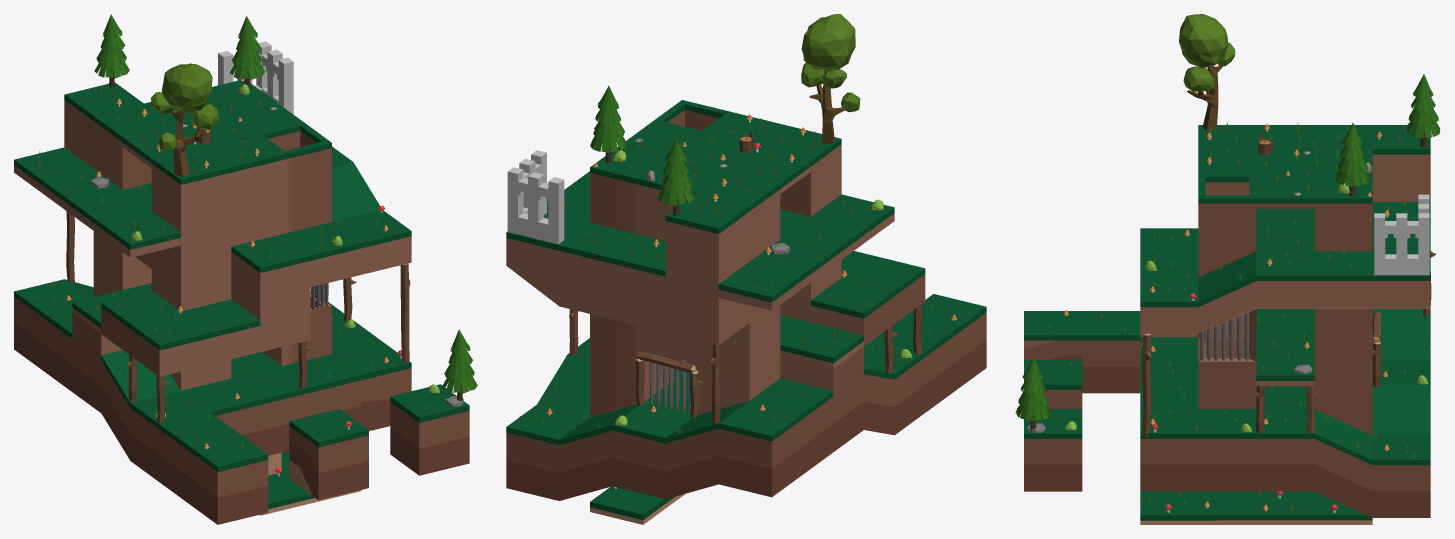
Rendered from Mapa202.fbx.
3 renders of one model, left to right at view 1: azimuth 30°, elevation 25°; view 2: azimuth 150°, elevation 25°; view 3: azimuth 270°, elevation 25°, orthographic. The views are drawn at different scales.
Visible parts, largest first — view 1: Cube, Cubo.009, Cubo.028, Cubo.018, Cubo.017, Cubo.006, Cubo.011, Tree1, Cubo.024, Cubo.025, Cubo.027, Cubo.029 (+10 smaller); view 2: Cube, Cubo.028, Cubo.009, Cubo.017, Cubo.018, Cubo.006, Tree1, Cubo.011, Cubo.026, Cubo.012, Cubo.029, Cubo.033 (+7 smaller); view 3: Cube, Cubo.009, Cubo.018, Cubo.028, Cubo.033, Cubo.012, Tree1, Cubo.006, Cubo.017, Cubo.027, Cubo.029, Tree2.003 (+7 smaller).
Part boxes in pixels (x1=…): Cube: x1=14, y1=100, x2=469, y2=524; Cubo.009: x1=14, y1=279, x2=411, y2=415; Cubo.028: x1=93, y1=80, x2=302, y2=184; Cubo.018: x1=231, y1=146, x2=411, y2=272; Cubo.017: x1=14, y1=147, x2=180, y2=249; Cubo.006: x1=101, y1=350, x2=268, y2=471; Cubo.011: x1=101, y1=290, x2=260, y2=350; Tree1: x1=150, y1=63, x2=219, y2=176; Cubo.024: x1=289, y1=409, x2=368, y2=447; Cubo.025: x1=390, y1=384, x2=469, y2=422; Cubo.027: x1=256, y1=41, x2=293, y2=114; Cubo.029: x1=64, y1=82, x2=143, y2=120; Cube: x1=506, y1=110, x2=986, y2=524; Cubo.028: x1=590, y1=113, x2=841, y2=210; Cubo.009: x1=506, y1=338, x2=833, y2=445; Cubo.017: x1=718, y1=194, x2=894, y2=302; Cubo.018: x1=506, y1=171, x2=665, y2=276; Cubo.006: x1=863, y1=294, x2=986, y2=379; Tree1: x1=801, y1=14, x2=860, y2=143; Cubo.011: x1=811, y1=251, x2=925, y2=318; Cubo.026: x1=508, y1=167, x2=564, y2=244; Cubo.012: x1=780, y1=315, x2=863, y2=363; Cubo.029: x1=665, y1=193, x2=749, y2=233; Cubo.033: x1=590, y1=486, x2=674, y2=519; Cube: x1=1024, y1=154, x2=1430, y2=524; Cubo.009: x1=1140, y1=309, x2=1430, y2=465; Cubo.018: x1=1140, y1=202, x2=1430, y2=307; Cubo.028: x1=1198, y1=125, x2=1372, y2=203; Cubo.033: x1=1140, y1=491, x2=1372, y2=520; Cubo.012: x1=1256, y1=309, x2=1314, y2=380; Tree1: x1=1179, y1=14, x2=1235, y2=130; Cubo.006: x1=1024, y1=311, x2=1140, y2=340; Cubo.017: x1=1256, y1=208, x2=1314, y2=251; Cubo.027: x1=1374, y1=213, x2=1429, y2=275; Cubo.029: x1=1372, y1=125, x2=1430, y2=154; Tree2.003: x1=1405, y1=74, x2=1440, y2=147.
Bounding box in the file's own units: 10540 × 16737 × 14634.
